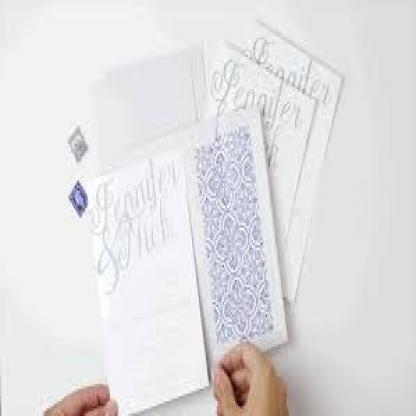paper: (156, 106, 286, 374), (82, 146, 209, 414), (239, 17, 342, 302), (205, 40, 313, 294), (87, 40, 204, 206), (67, 178, 86, 218), (67, 124, 85, 163)
